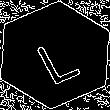L_NW: (27, 26, 83, 84)
